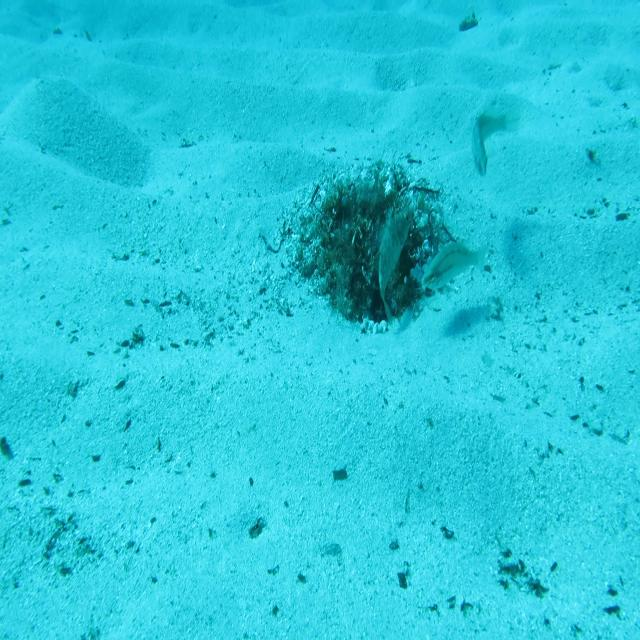LF: (375, 208, 413, 328)
core_nest: (357, 197, 407, 241)
female: (470, 104, 521, 179), (422, 240, 489, 293)
nest: (280, 156, 466, 339)
vegetation: (454, 8, 480, 33), (248, 519, 267, 539), (332, 465, 348, 483)
